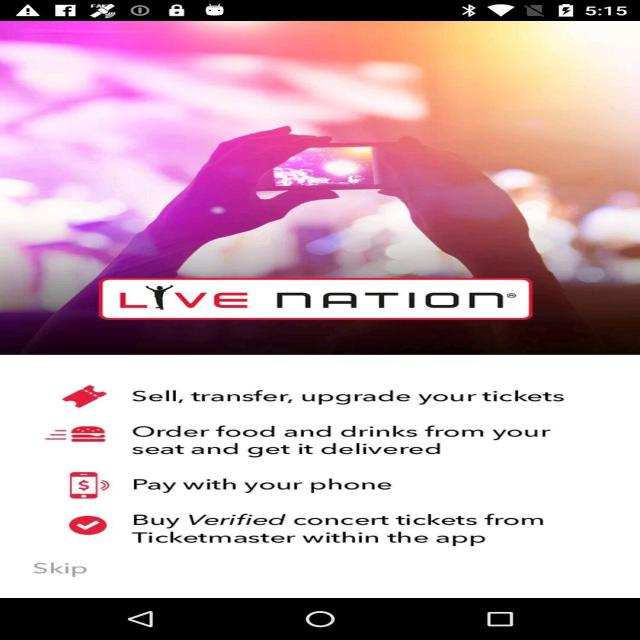button: (21, 556, 102, 585)
image: (0, 21, 640, 355), (100, 280, 535, 318), (52, 466, 129, 506), (54, 508, 125, 544), (48, 381, 117, 416), (50, 420, 119, 450)
text: (131, 420, 573, 463), (133, 510, 552, 555), (131, 383, 577, 416), (137, 473, 417, 503), (21, 553, 108, 586)
